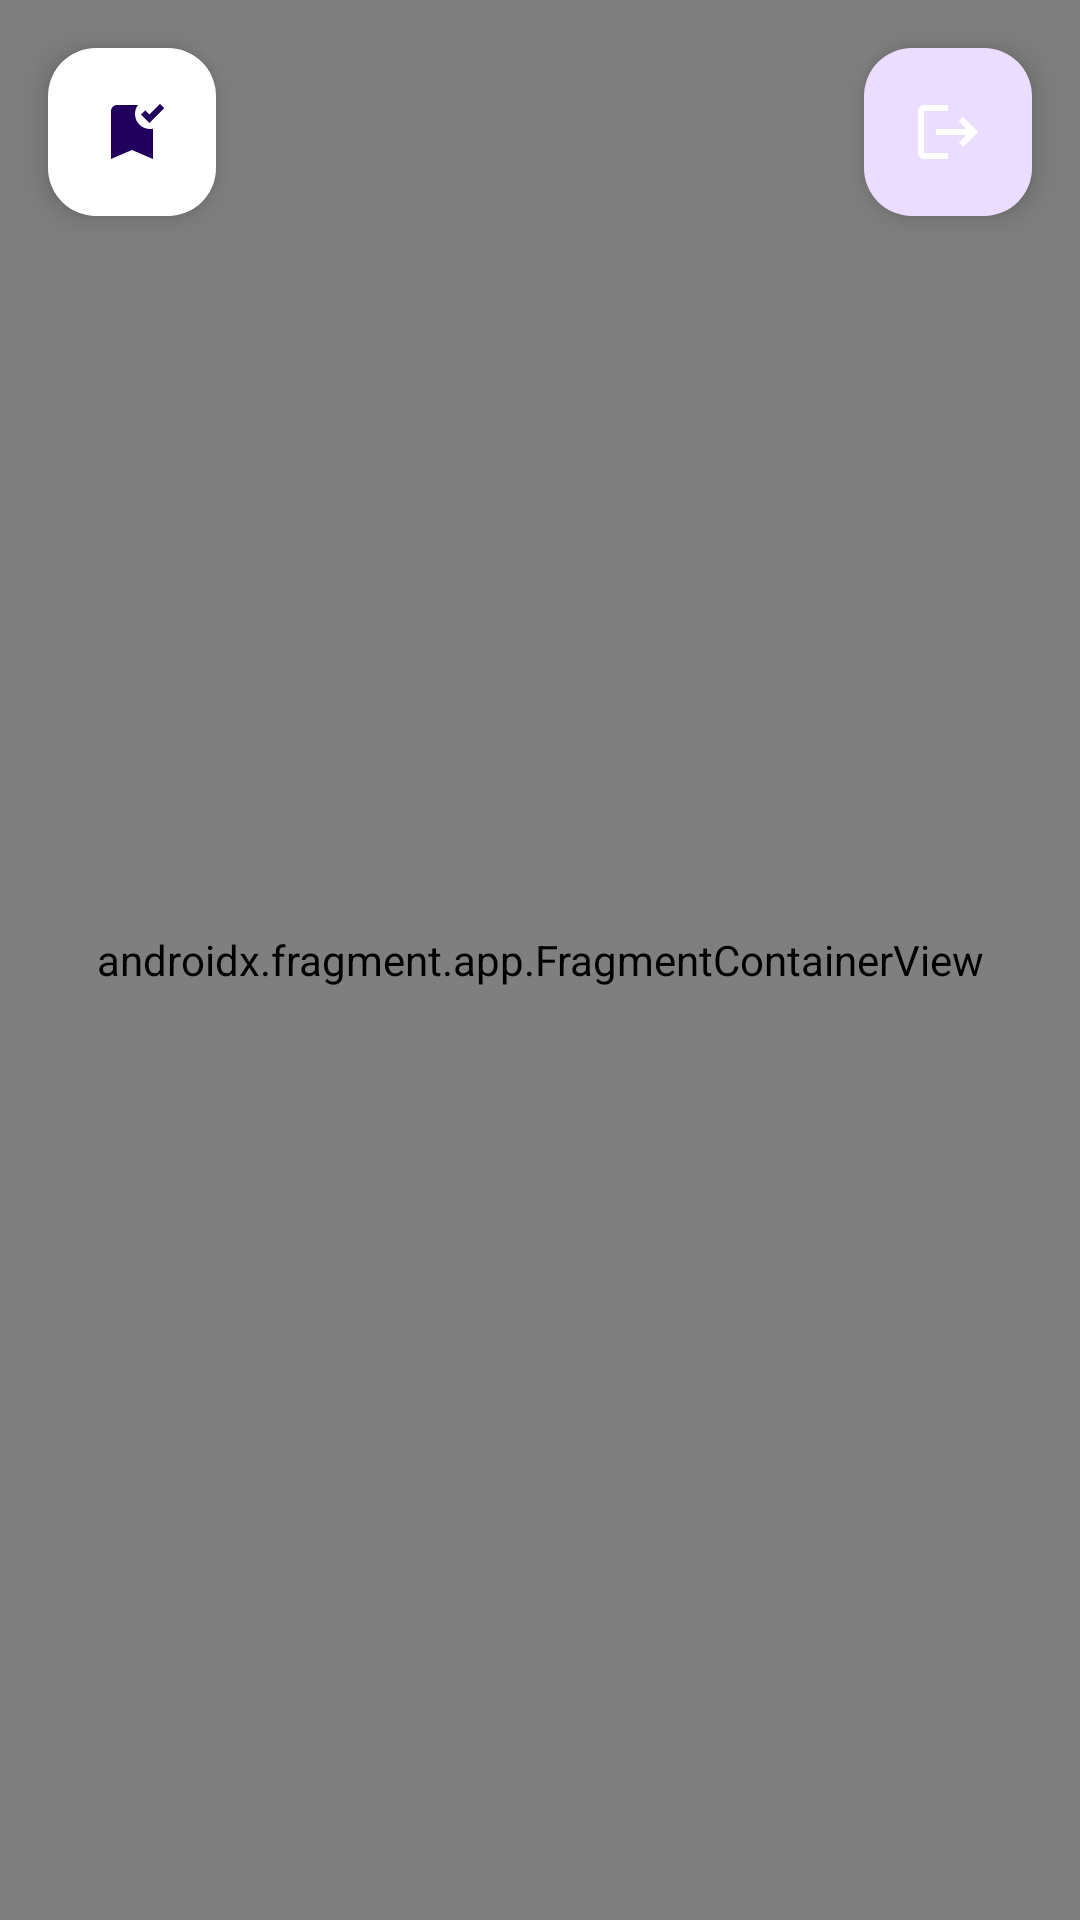

Icons on this 1080×1920 Android screen, each with its box as (x1, y1, x2, y2):
My Reservations: (48, 48, 216, 216)
